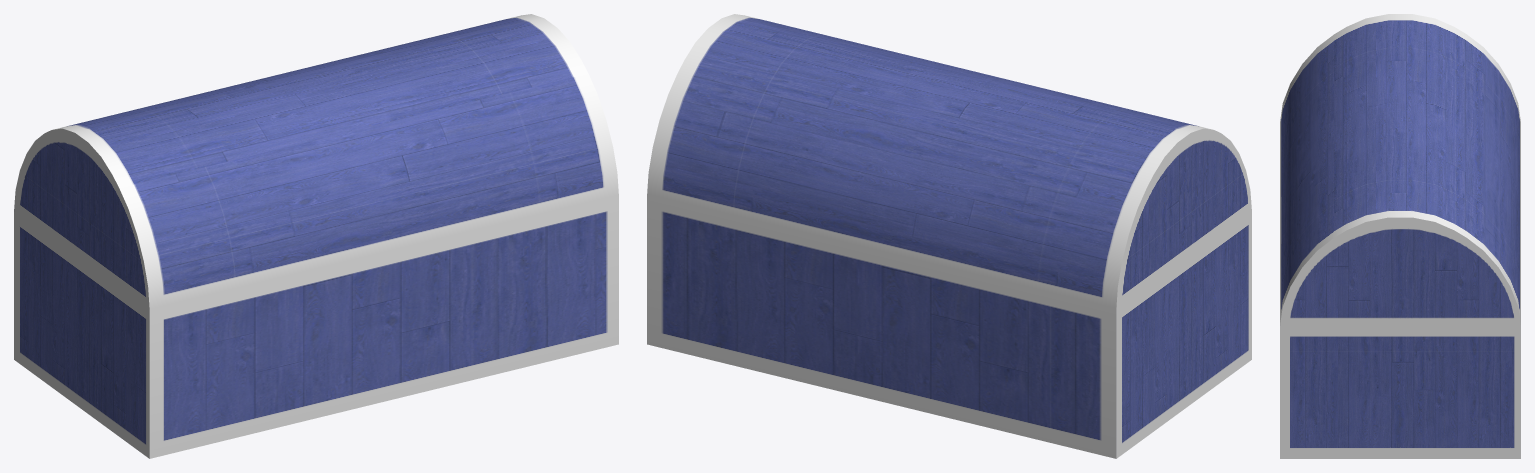
Rendered from kist.fbx.
The picture shows the model from 3 angles, left to right: view 1: azimuth 30°, elevation 25°; view 2: azimuth 150°, elevation 25°; view 3: azimuth 270°, elevation 25°; orthographic projection. The views are drawn at different scales.
Parts seen in each view (by area): view 1: Cube.004; view 2: Cube.004; view 3: Cube.004.
Boxes of the visible parts, box(x1,y1,x2,y2) form: Cube.004: box(14, 14, 618, 458); Cube.004: box(647, 14, 1251, 458); Cube.004: box(1280, 14, 1520, 458).
Bounding box in the file's own units: 40 × 22.13 × 20.
